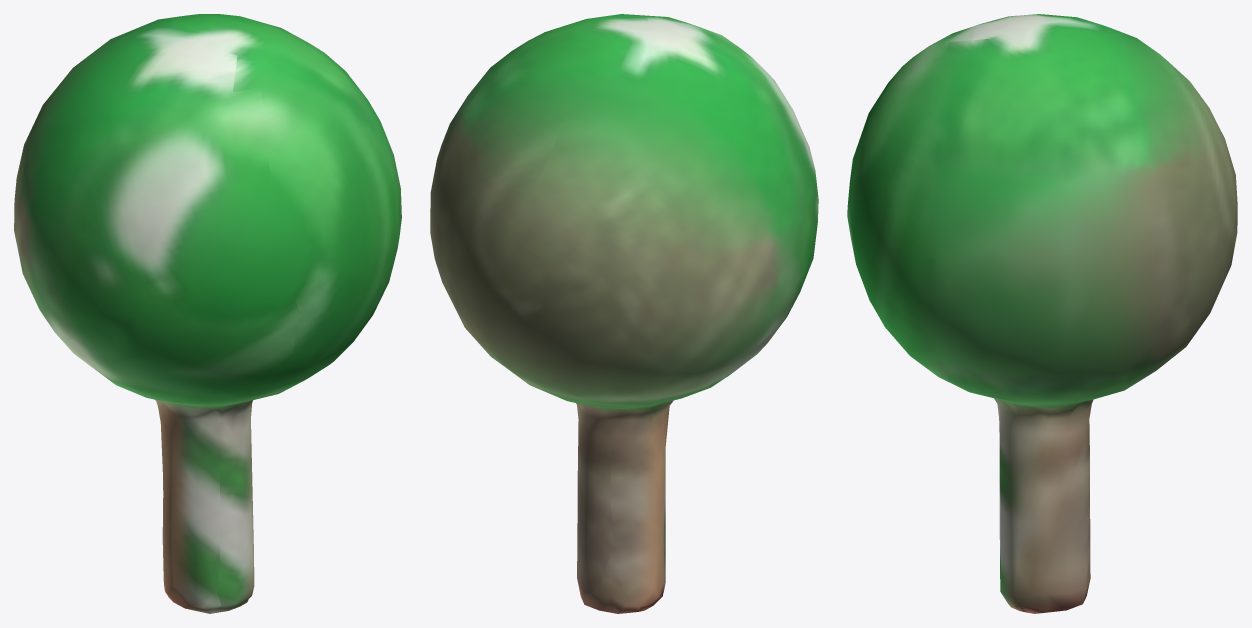
File: CF_Lollipop_Green.fbx
3 renders of one model, left to right at view 1: azimuth 30°, elevation 25°; view 2: azimuth 150°, elevation 25°; view 3: azimuth 270°, elevation 25°, orthographic.
Parts seen in each view (by area): view 1: CF_Lollipop_Green; view 2: CF_Lollipop_Green; view 3: CF_Lollipop_Green.
Boxes of the visible parts, x1=… form: CF_Lollipop_Green: x1=14, y1=14, x2=401, y2=613; CF_Lollipop_Green: x1=430, y1=14, x2=818, y2=613; CF_Lollipop_Green: x1=847, y1=14, x2=1237, y2=613.
Size of the model in its own units: 0.5561 by 0.9 by 0.5607.
